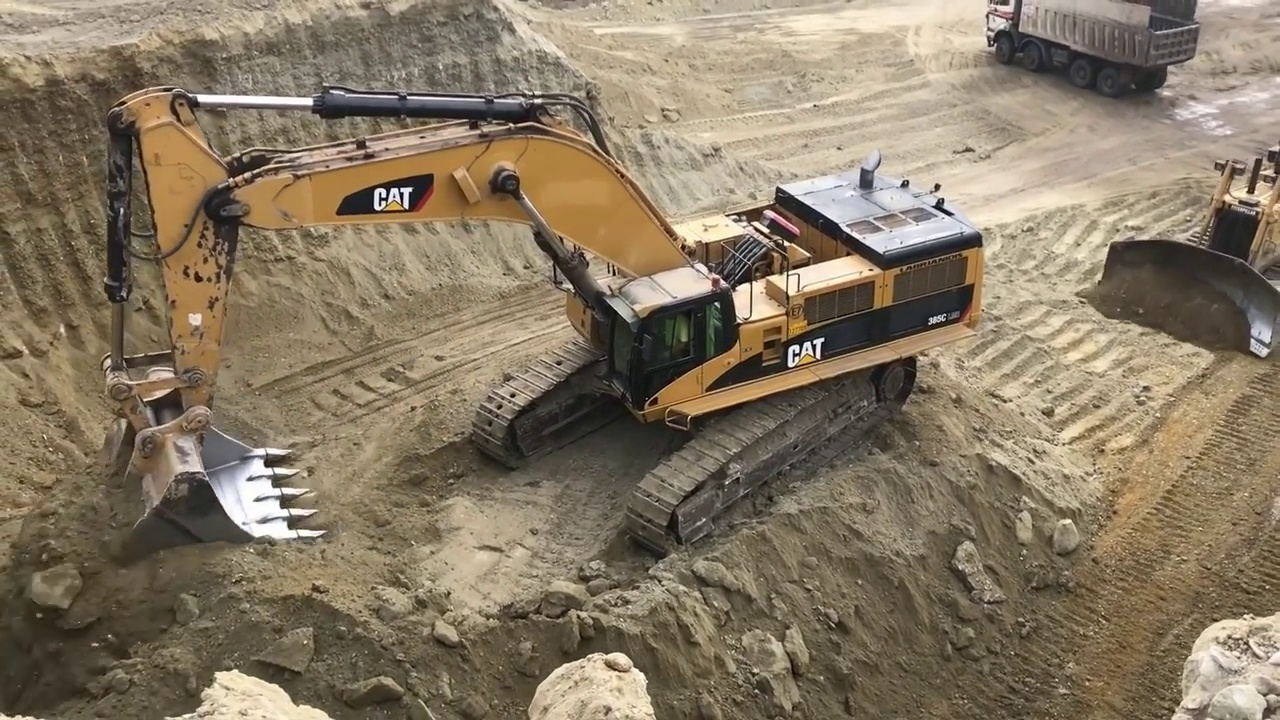dumper: (1089, 159, 1277, 362)
excavator: (100, 84, 985, 553)
truck: (983, 1, 1201, 94)
